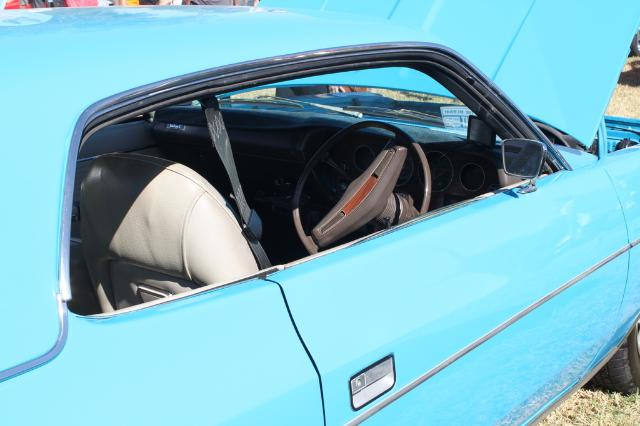Seatbelt: (194, 98, 272, 264)
